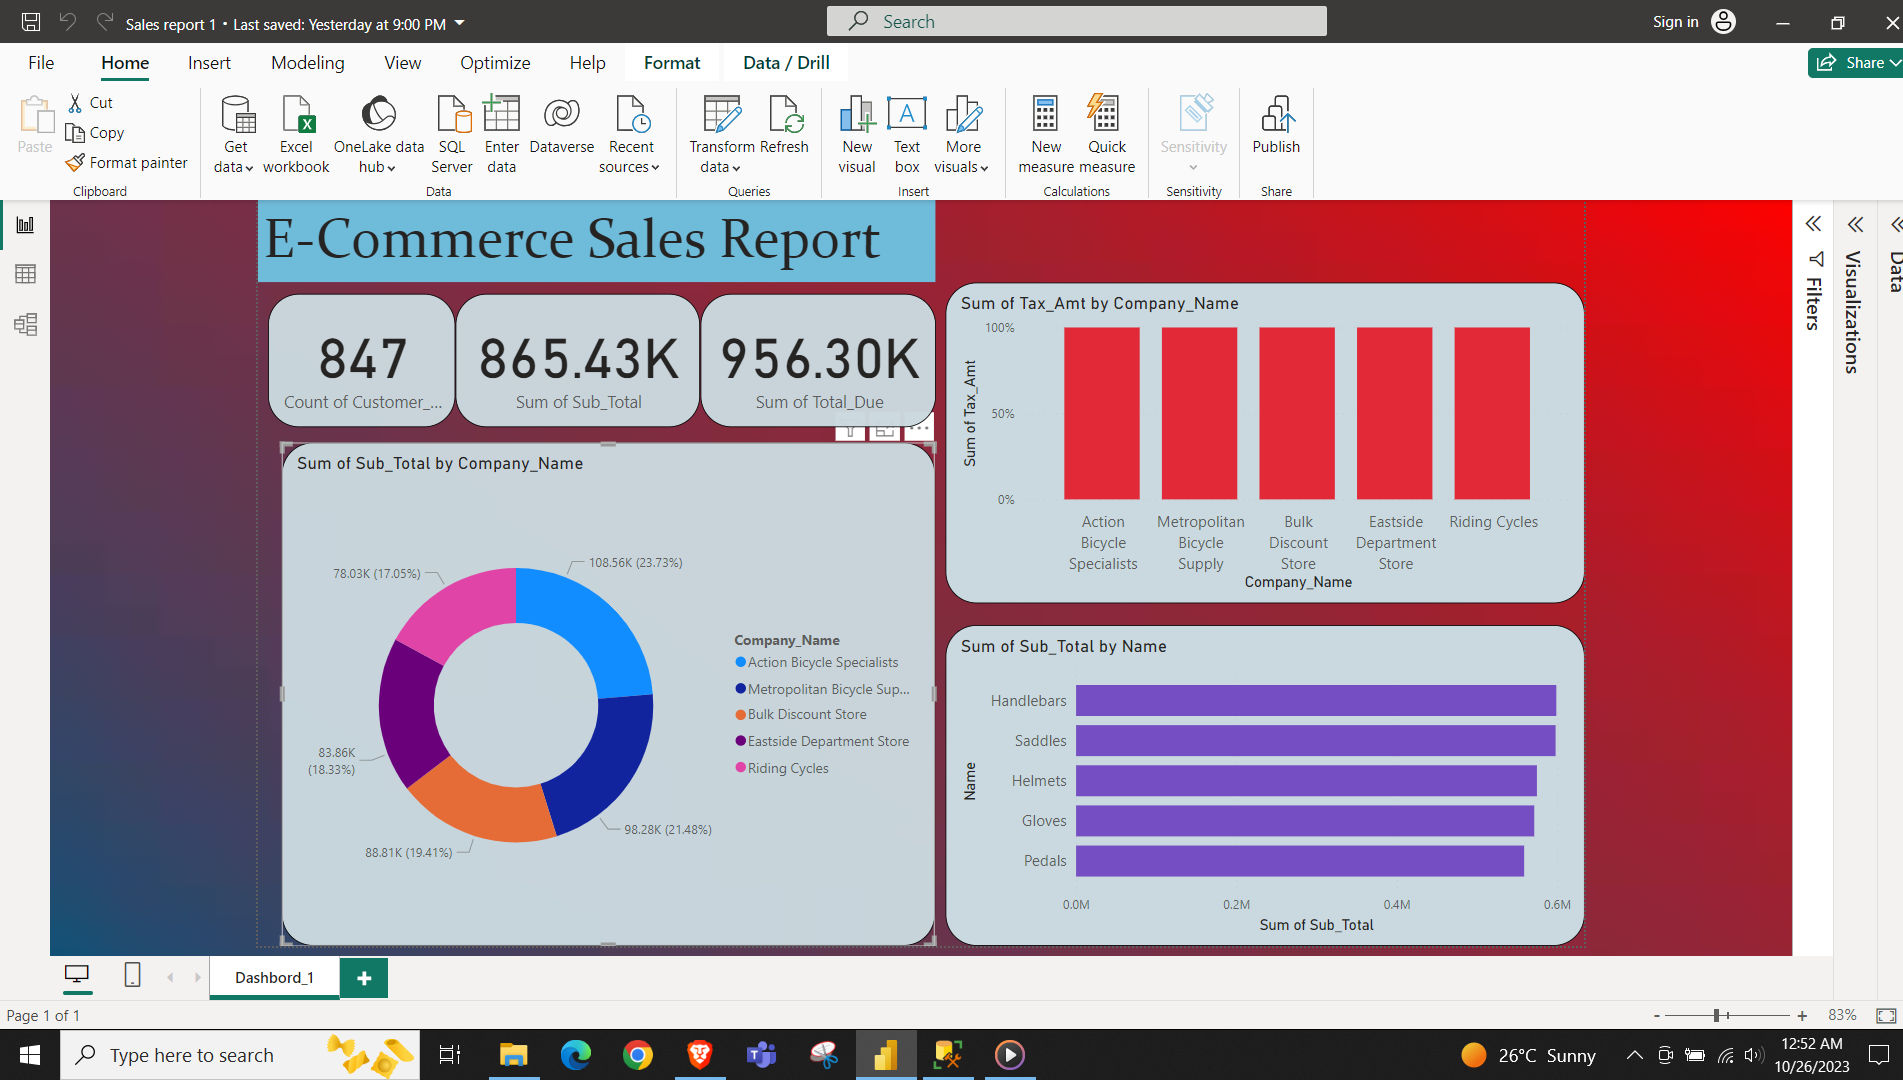

The dashboard page shown, as its layout file describes it:
{"tool":"powerbi","page":{"name":"Dashbord_1","canvas":[1280,720],"ordinal":0},"visuals":[{"type":"textbox","box":[0,0,654,79.5],"z":0},{"type":"card","fields":{"Values":["CountNonNull(Customer.Customer_ID)"]},"box":[9.6,90.5,181,128.9],"z":1000},{"type":"clusteredBarChart","fields":{"Category":["ProductCategory.Name"],"Y":["Sum(SalesOrderHeader.Sub_Total)"]},"box":[663.6,409.9,617,309.9],"z":2000},{"type":"donutChart","fields":{"Category":["Customer.Company_Name"],"Y":["Sum(SalesOrderHeader.Sub_Total)"]},"box":[23.3,234.4,630.7,485.4],"z":3000},{"type":"card","fields":{"Values":["Sum(SalesOrderHeader.Sub_Total)"]},"box":[190.6,90.5,235.8,128.9],"z":4000},{"type":"card","fields":{"Values":["Sum(SalesOrderHeader.Total_Due)"]},"box":[426.4,90.5,227.6,128.9],"z":5000},{"type":"hundredPercentStackedColumnChart","fields":{"Category":["Customer.Company_Name"],"Y":["Sum(SalesOrderHeader.Tax_Amt)"]},"box":[663.6,79.5,617,309.9],"z":6000}]}

Visuals, with their boxes in screenshot pixels (x1, y1, x2, y2):
textbox: [5,0,930,38]
card - CountNonNull(Customer.Customer_ID): [19,54,275,236]
clusteredBarChart - ProductCategory.Name x Sum(SalesOrderHeader.Sub_Total): [943,505,1816,944]
donutChart - Customer.Company_Name x Sum(SalesOrderHeader.Sub_Total): [38,257,930,944]
card - Sum(SalesOrderHeader.Sub_Total): [275,54,608,236]
card - Sum(SalesOrderHeader.Total_Due): [608,54,930,236]
hundredPercentStackedColumnChart - Customer.Company_Name x Sum(SalesOrderHeader.Tax_Amt): [943,38,1816,476]
